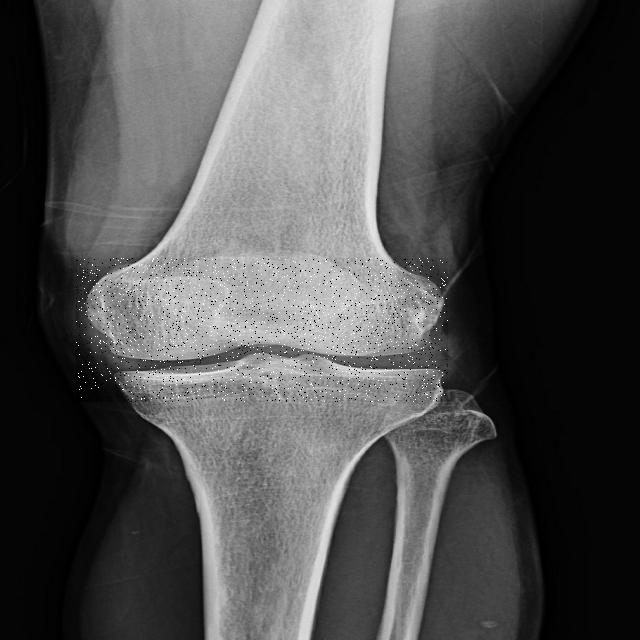osteo: (76, 258, 448, 402)
